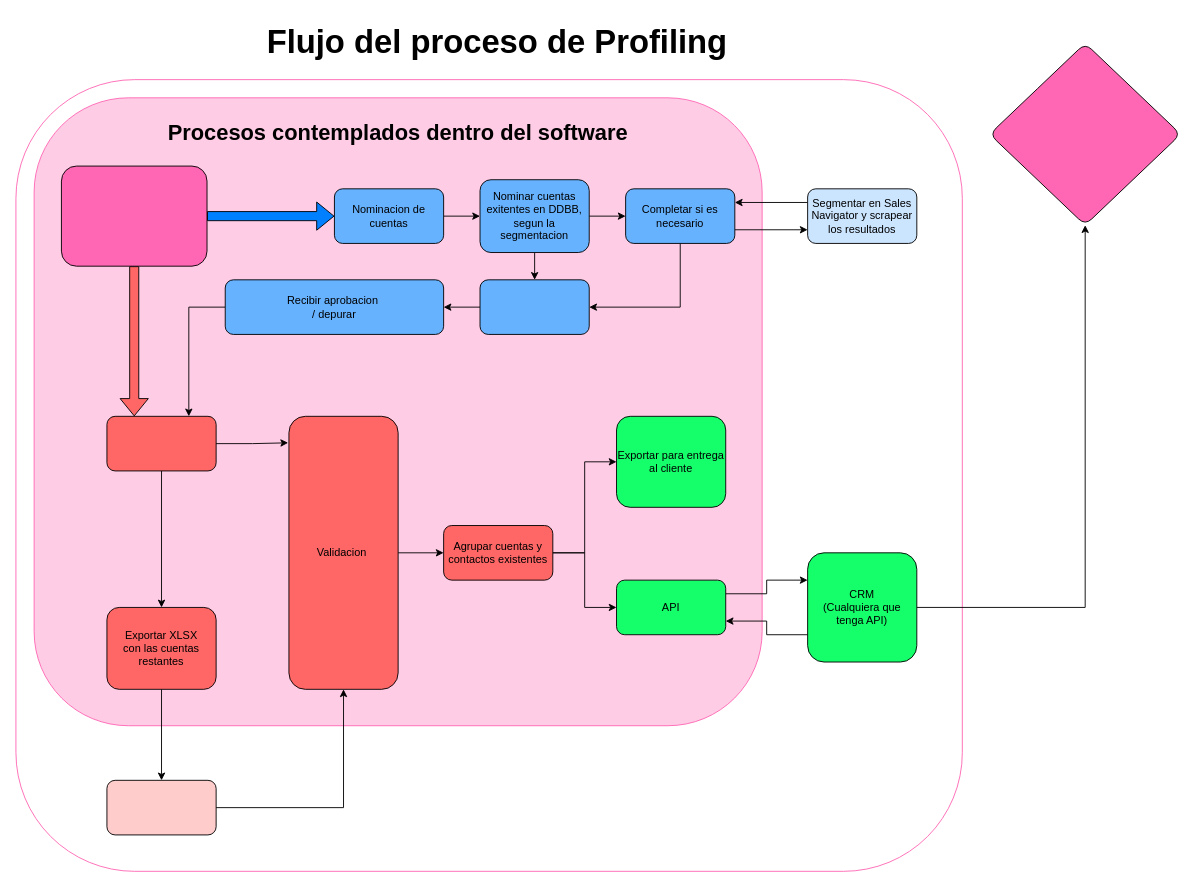
The diagram is 1197 pixels wide and 887 high, and some of its shapes have lost their labels. Each missing label, with the box of its shape:
Exportar para enviar al cliente esperando aprobacion: (479, 279, 589, 334)
Perfilacion: (106, 415, 216, 471)
Proceso de generacion IMR: (989, 42, 1181, 225)
Recoleccion de datos: (106, 779, 216, 835)
Solicitud: (61, 165, 207, 266)
